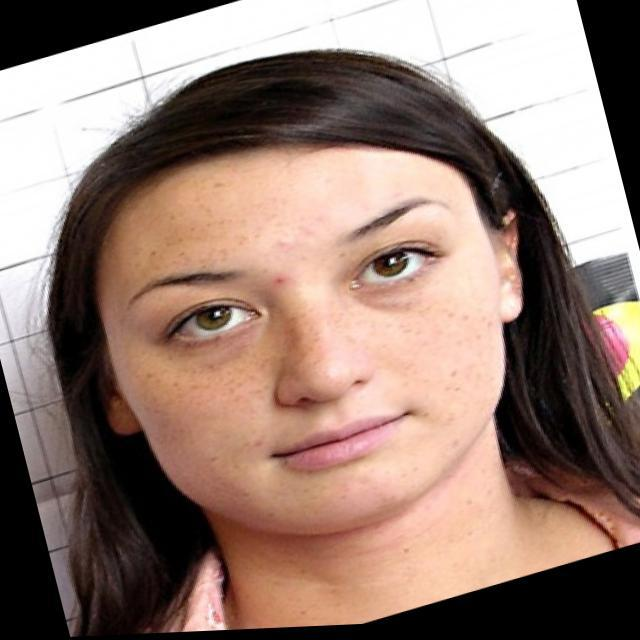Nonhelmet: (98, 143, 514, 535)
